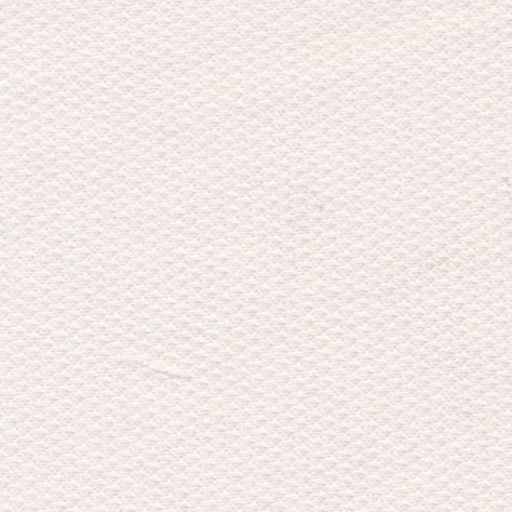DuanSha: (132, 326, 201, 399)
